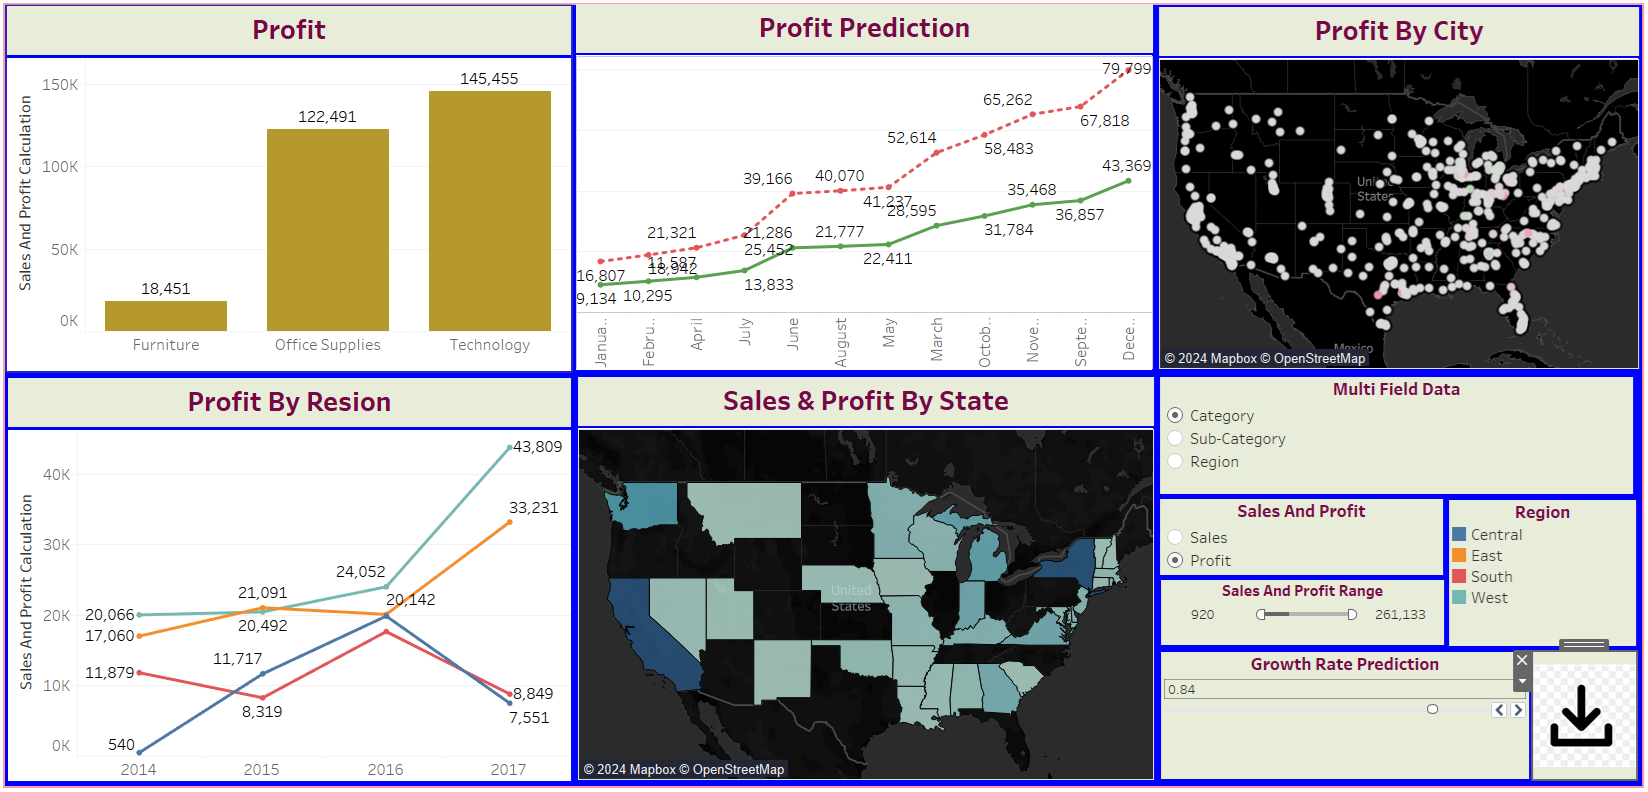

What the dashboard file says about the page in this screenshot:
{"tool":"tableau","page":{"name":"Super Store Deshboard ","canvas":[1000,1000],"units":"permille","ordinal":0},"visuals":[{"type":"worksheet","title":"Growth Rate Prediction","mark":"Line","rows":["Calculation_1400056564258402306","Calculation_568579483325825024"],"cols":["Order Date"],"box":[350.6,11.2,348.2,456.9]},{"type":"worksheet","title":"Sales/Profit By Different Expects","mark":"Automatic","rows":["Calculation_1400056564258402306"],"cols":["Calculation_1400056564255567872"],"box":[7.2,13.7,340.4,455.7]},{"type":"worksheet","title":"Sales & Profit By City","mark":"Automatic","box":[702.5,15,289.7,451.9]},{"type":"worksheet","title":"Sales & Profit By State","mark":"Automatic","box":[351.8,476.9,347.6,503.1]},{"type":"parameter","param":"[Parameters].[Parameter 1]","box":[703.1,476.9,285.5,146.1]},{"type":"worksheet","title":"Sales & Profit Trends","mark":"Line","rows":["Calculation_1400056564258402306"],"cols":["Order Date"],"box":[7.9,478.2,339.8,503.1]},{"type":"parameter","param":"[Parameters].[Parameter 2]","box":[703.1,629.2,170.8,94.9]},{"type":"legend","title":"Sales & Profit Trends","param":"[federated.1gco90r0hibayk18spdh50bnfi69].[none:Region:nk]","box":[877.5,630.5,112.9,182.3]},{"type":"filter","title":"Sales & Profit By State","param":"[federated.1gco90r0hibayk18spdh50bnfi69].[sum:Calculation_1400056564258402306:qk","box":[703.7,730.3,170.8,81.2]},{"type":"parameter","param":"[Parameters].[Parameter 3]","box":[703.7,820.2,222.1,158.6]},{"type":"dashboard-object","box":[928.2,820.2,62.2,158.6]}]}

Visuals, with their boxes on the dashboard's canvas, which has no fixed pixel size, in thousandths of its width and height (x1, y1, x2, y2). These are canvas units, not pixel positions in the 1648x792 screenshot, which may show the page scaled, cropped or inside an application window:
"Growth Rate Prediction" worksheet (Line marks): select_region(351, 11, 699, 468)
"Sales/Profit By Different Expects" worksheet: select_region(7, 14, 348, 469)
"Sales & Profit By City" worksheet: select_region(702, 15, 992, 467)
"Sales & Profit By State" worksheet: select_region(352, 477, 699, 980)
parameter: select_region(703, 477, 989, 623)
"Sales & Profit Trends" worksheet (Line marks): select_region(8, 478, 348, 981)
parameter: select_region(703, 629, 874, 724)
"Sales & Profit Trends" legend: select_region(878, 630, 990, 813)
"Sales & Profit By State" filter: select_region(704, 730, 874, 812)
parameter: select_region(704, 820, 926, 979)
dashboard-object: select_region(928, 820, 990, 979)
